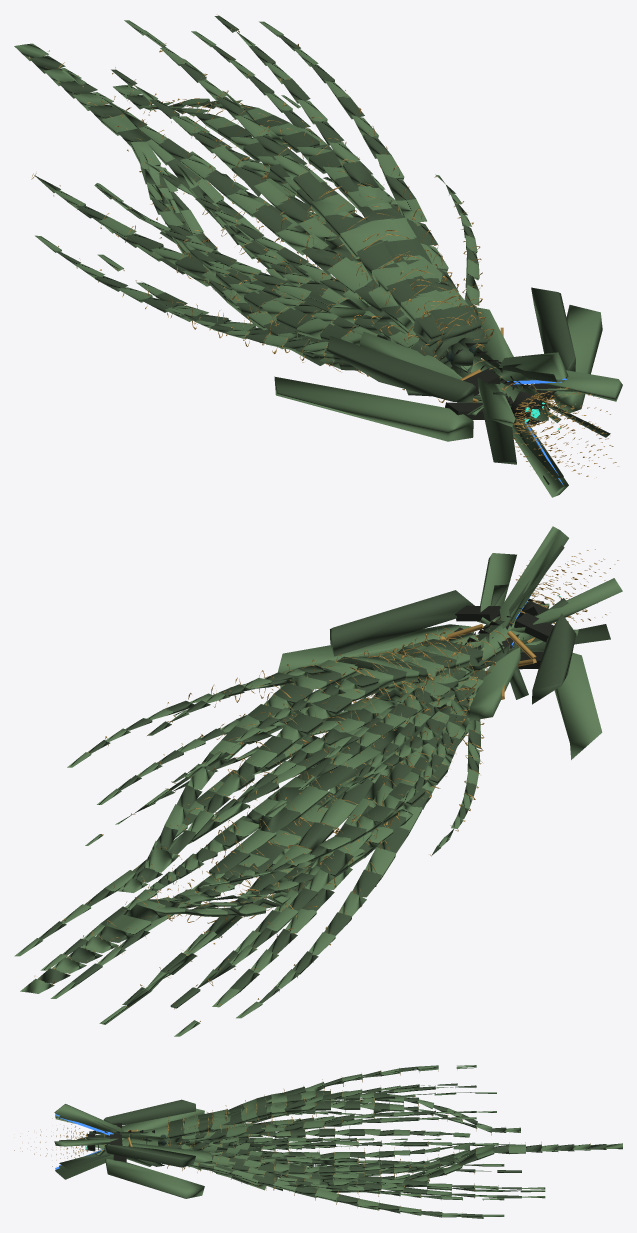
Rendered from kharath-destroyer-lod2.glb.
3 renders of one model, top to bottom at view 1: azimuth 30°, elevation 25°; view 2: azimuth 150°, elevation 25°; view 3: azimuth 270°, elevation 25°, orthographic. The views are drawn at different scales.
Size of the model in its own units: 56.75 by 43.3 by 176.
